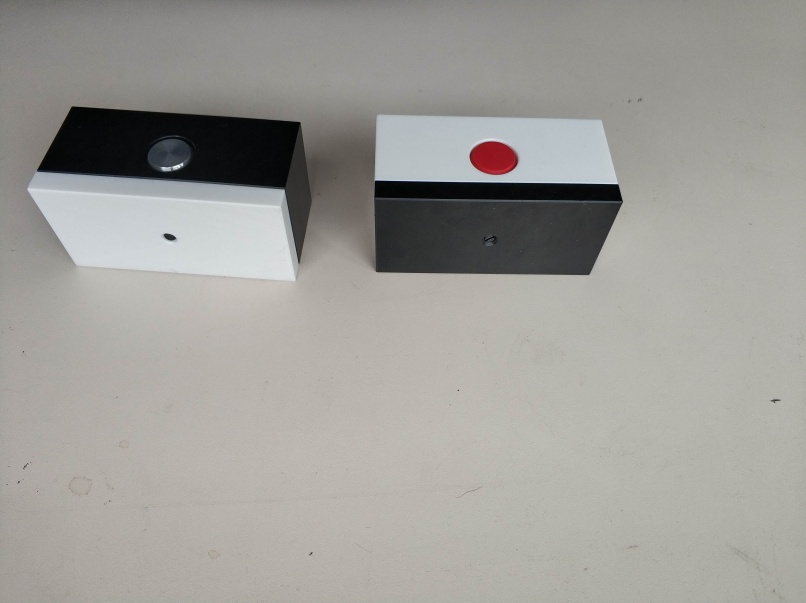black+white+red: (373, 112, 626, 275)
white+black+silver: (25, 105, 313, 284)
